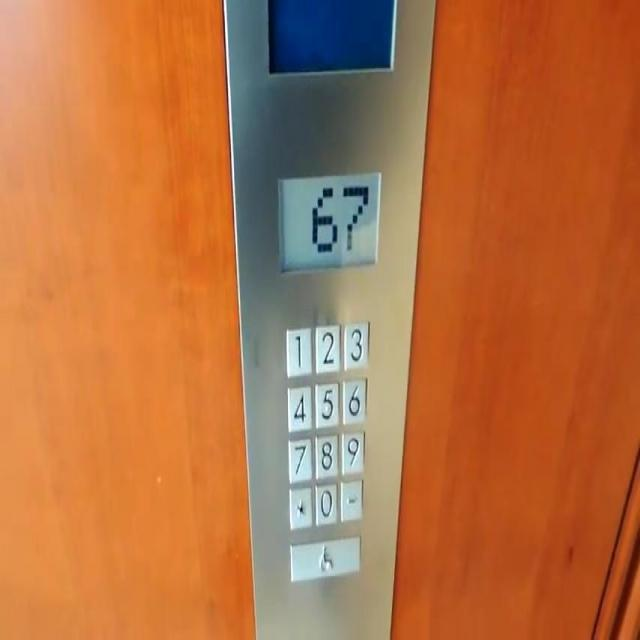-: (287, 484, 312, 529), (339, 478, 362, 522)
0: (313, 480, 338, 525)
1: (285, 325, 311, 376)
2: (314, 324, 339, 375)
3: (342, 319, 368, 369)
4: (286, 383, 312, 433)
5: (312, 379, 338, 429)
6: (341, 375, 366, 425)
7: (287, 437, 312, 483)
8: (314, 432, 338, 479)
9: (340, 428, 364, 475)
CH: (288, 535, 361, 581)
led: (276, 165, 381, 272)
